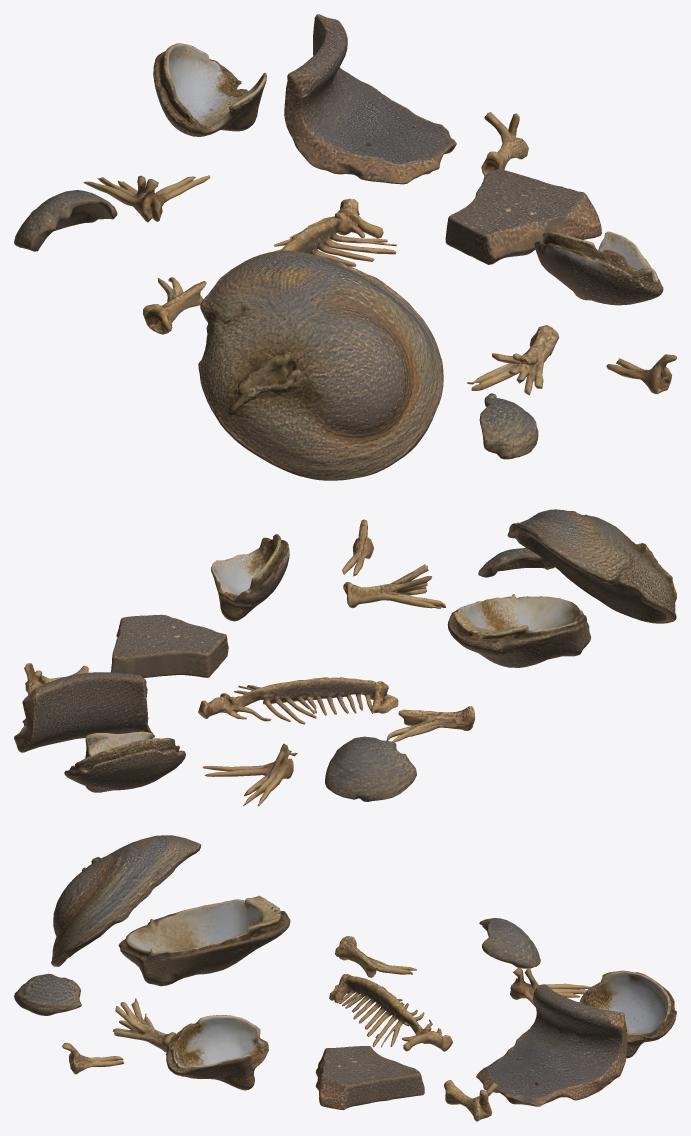
The model's file is refuse-v1.glb.
3 views of the same model, one above another, from view 1: azimuth 30°, elevation 25°; view 2: azimuth 150°, elevation 25°; view 3: azimuth 270°, elevation 25° (orthographic). The views are drawn at different scales.
Visible parts, largest first — view 1: tripo_node_ab5daf48-d226-4422-ae0b-509c646c90eb; view 2: tripo_node_ab5daf48-d226-4422-ae0b-509c646c90eb; view 3: tripo_node_ab5daf48-d226-4422-ae0b-509c646c90eb.
Boxes of the visible parts, x1,y1,x2,y2 form: tripo_node_ab5daf48-d226-4422-ae0b-509c646c90eb: (14,14,676,480); tripo_node_ab5daf48-d226-4422-ae0b-509c646c90eb: (14,509,676,806); tripo_node_ab5daf48-d226-4422-ae0b-509c646c90eb: (14,835,676,1121).
Bounding box in the file's own units: 0.7127 × 0.203 × 1.
Materials: 1 (1 with a texture image).
